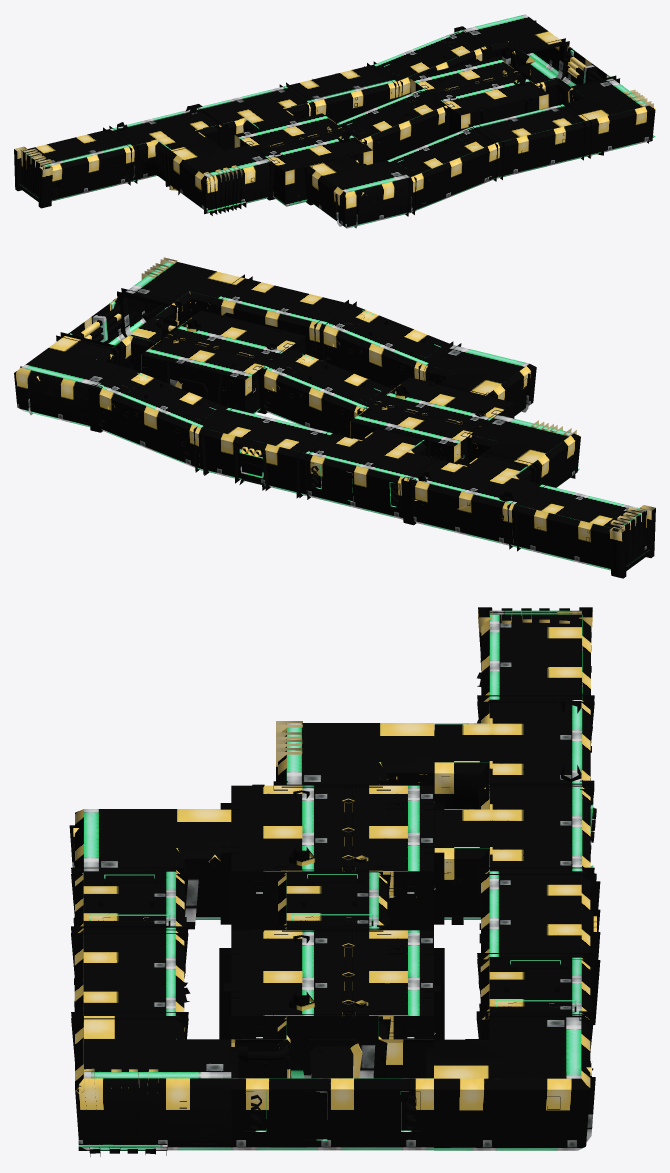
Rendered from Combined_Mesh_root_scene__3_4fde1142__zombies2_diffuse_12_078cf75e_c1f257.obj.
3 views of the same model, one above another, from view 1: azimuth 30°, elevation 25°; view 2: azimuth 150°, elevation 25°; view 3: azimuth 270°, elevation 25° (orthographic). The views are drawn at different scales.
Size of the model in its own units: 117 by 12.76 by 52.4.
230 materials, 230 textured.
